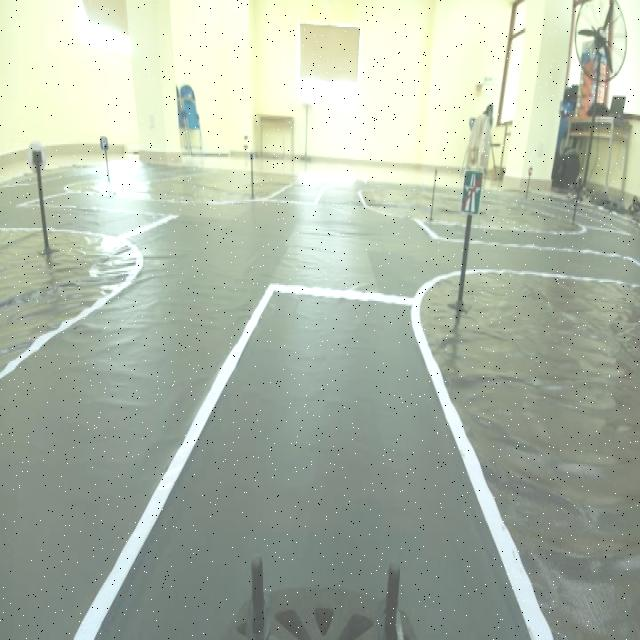highway_exit: (459, 166, 485, 224)
